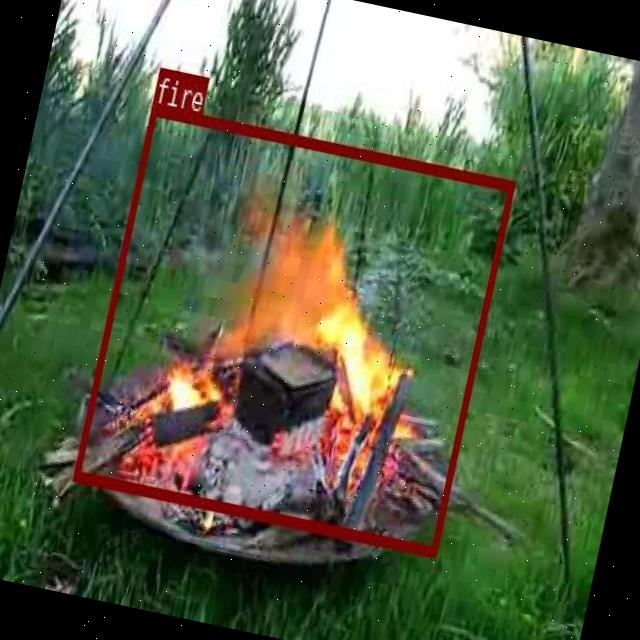fire: (72, 102, 514, 555)
